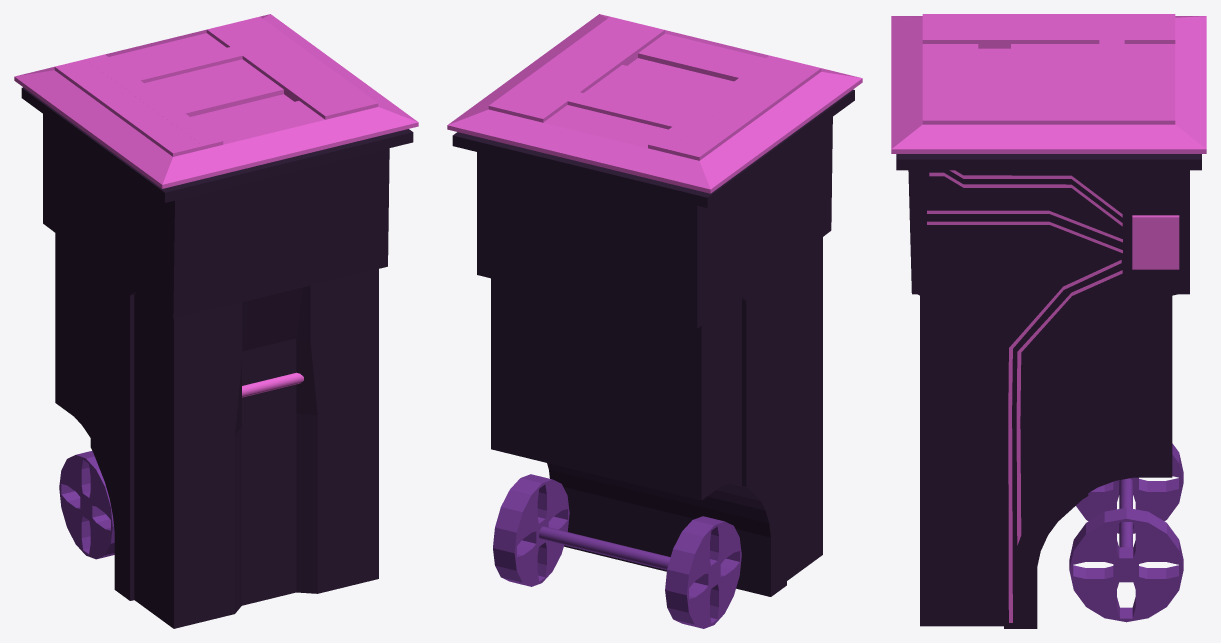
Rendered from smiec.fbx.
The picture shows the model from 3 angles, left to right: view 1: azimuth 30°, elevation 25°; view 2: azimuth 150°, elevation 25°; view 3: azimuth 270°, elevation 25°; orthographic projection. The views are drawn at different scales.
Visible parts, largest first — view 1: Cube, Cube.001, Cylinder.003, Cylinder; view 2: Cube, Cube.001, Cylinder.003, Cylinder.001; view 3: Cube, Cube.001, Cylinder.003, base .002, Cube.002, Cylinder.001.
Boxes of the visible parts, bbox=[...] form: Cube: bbox=[21, 87, 413, 628]; Cube.001: bbox=[14, 14, 418, 188]; Cylinder.003: bbox=[59, 451, 114, 559]; Cylinder: bbox=[242, 372, 303, 397]; Cube: bbox=[452, 89, 854, 596]; Cube.001: bbox=[447, 14, 862, 193]; Cylinder.003: bbox=[493, 474, 741, 628]; Cylinder.001: bbox=[539, 526, 670, 570]; Cube: bbox=[896, 154, 1201, 628]; Cube.001: bbox=[891, 14, 1206, 153]; Cylinder.003: bbox=[1069, 443, 1183, 622]; base .002: bbox=[927, 170, 1122, 622]; Cube.002: bbox=[1132, 215, 1179, 269]; Cylinder.001: bbox=[1119, 478, 1132, 547].
Size of the model in its own units: 76.23 by 135 by 76.23.
